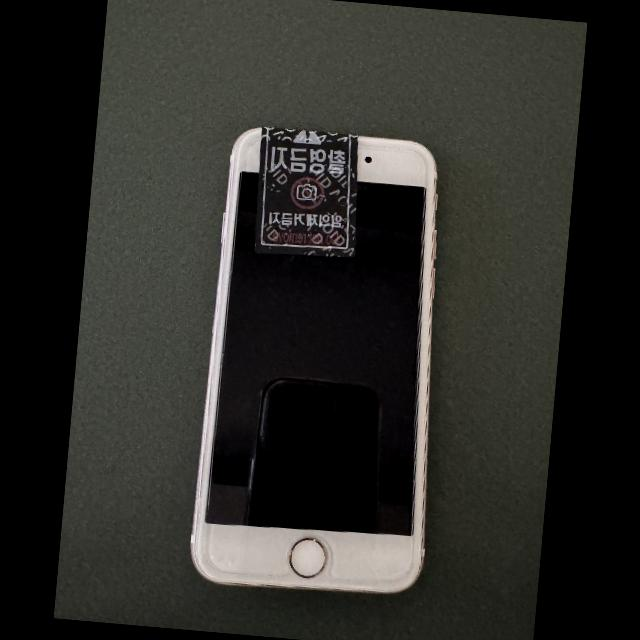phone: (190, 126, 436, 592)
sticker: (252, 126, 357, 259)
